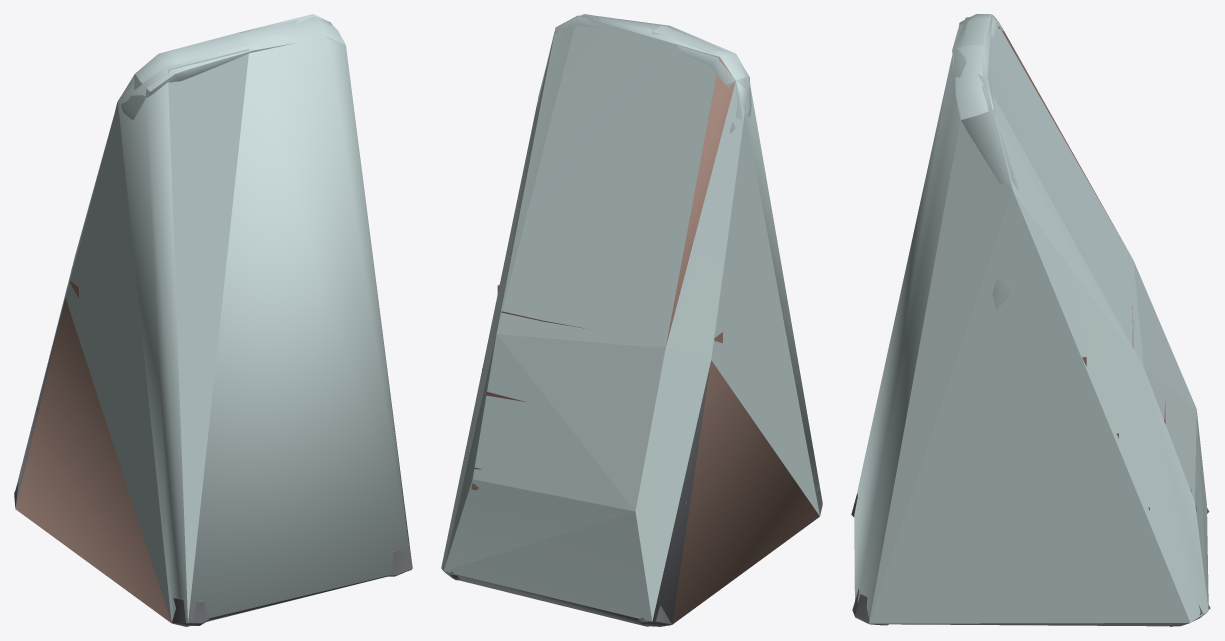
Rendered from stepladder.fbx.
3 renders of one model, left to right at view 1: azimuth 30°, elevation 25°; view 2: azimuth 150°, elevation 25°; view 3: azimuth 270°, elevation 25°, orthographic. The views are drawn at different scales.
Parts seen in each view (by area): view 1: c_escabeau, escabeau; view 2: c_escabeau, escabeau; view 3: c_escabeau, escabeau.
Part boxes in pixels (box(x1,y1,x2,y2)): c_escabeau: box(15, 14, 411, 626); escabeau: box(14, 16, 412, 625); c_escabeau: box(441, 15, 821, 626); escabeau: box(442, 14, 822, 626); c_escabeau: box(854, 14, 1208, 626); escabeau: box(851, 14, 1210, 626).
Size of the model in its own units: 58.53 by 123 by 75.52.
